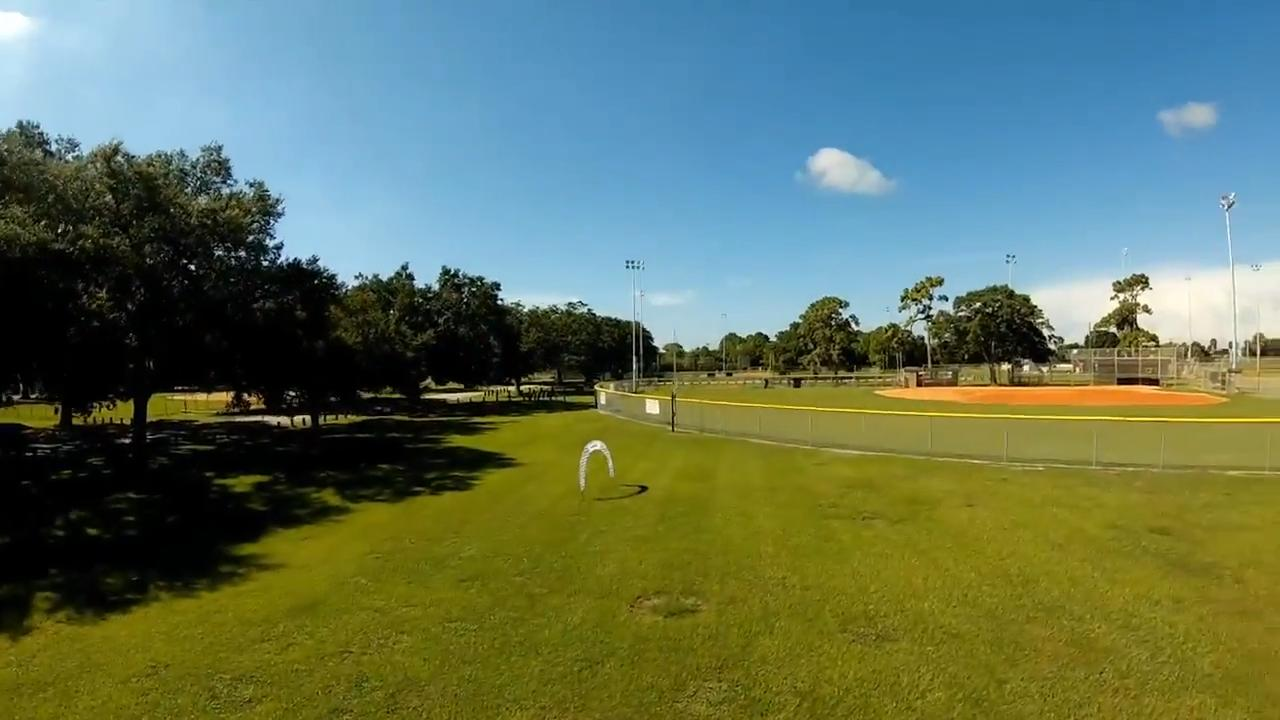gate: (576, 440, 616, 492)
